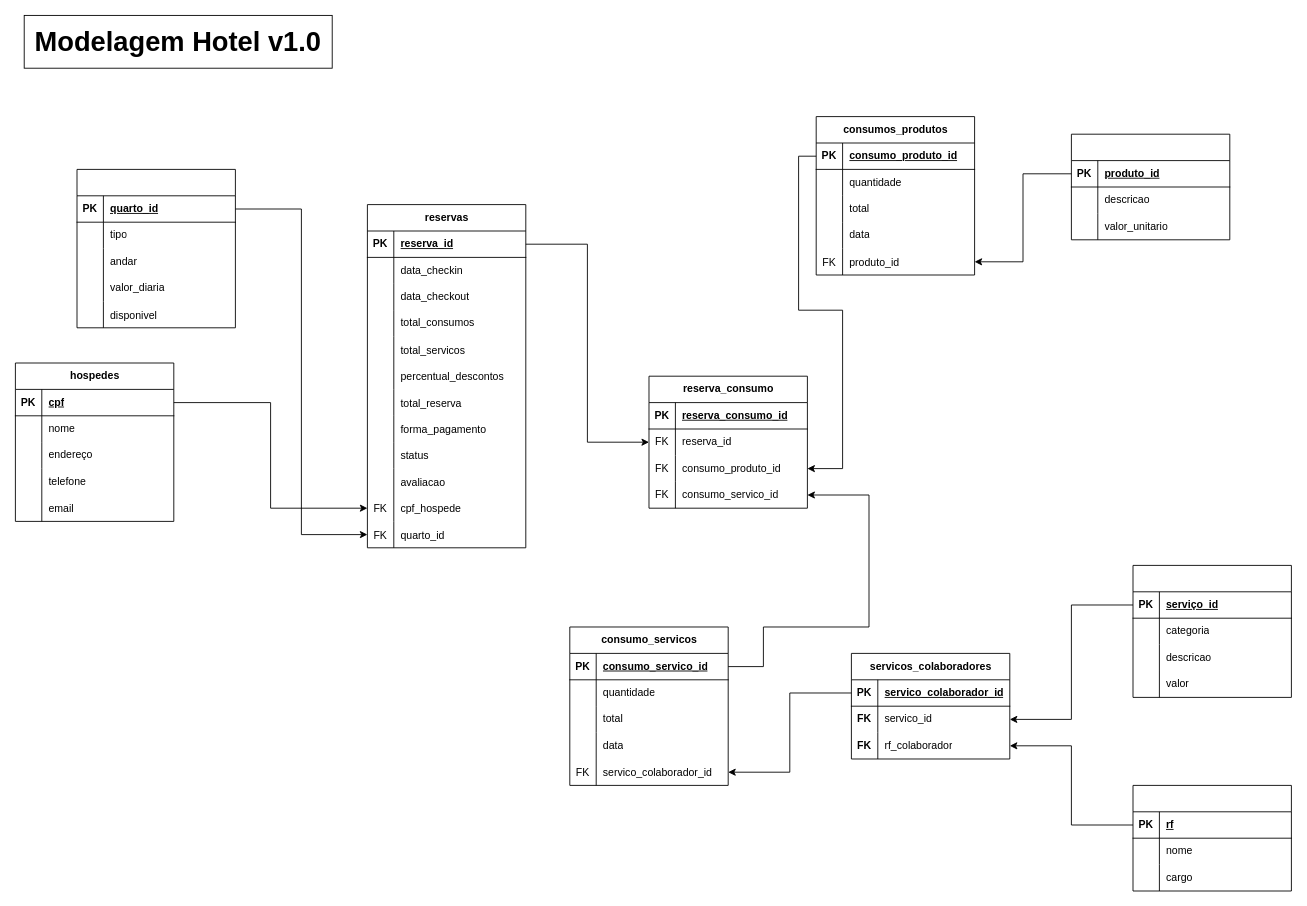
Image size: 1307x906. Some labels were removed from this diagram. The shapes that lost their labels are listed below. From the top down, each one's box as (x1, y1, x2, y2) in pixels, then its label:
(1071, 133, 1230, 240): produtos
(76, 169, 235, 328): quartos
(1132, 565, 1291, 697): servicos
(1132, 785, 1291, 891): colaboradores
